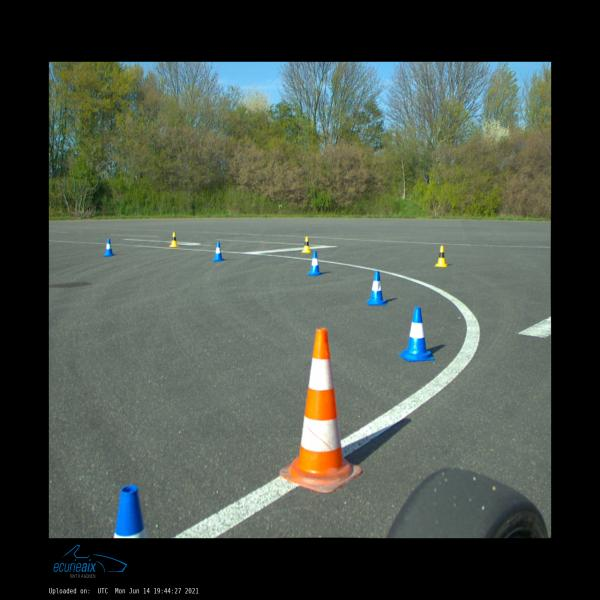blue_cone: (398, 307, 435, 362), (113, 484, 148, 538), (366, 271, 386, 304), (307, 251, 323, 276), (213, 242, 224, 261), (103, 238, 114, 256)
large_orange_cone: (280, 328, 362, 493)
yellow_cone: (434, 246, 448, 267), (302, 236, 311, 253), (169, 232, 178, 247)
